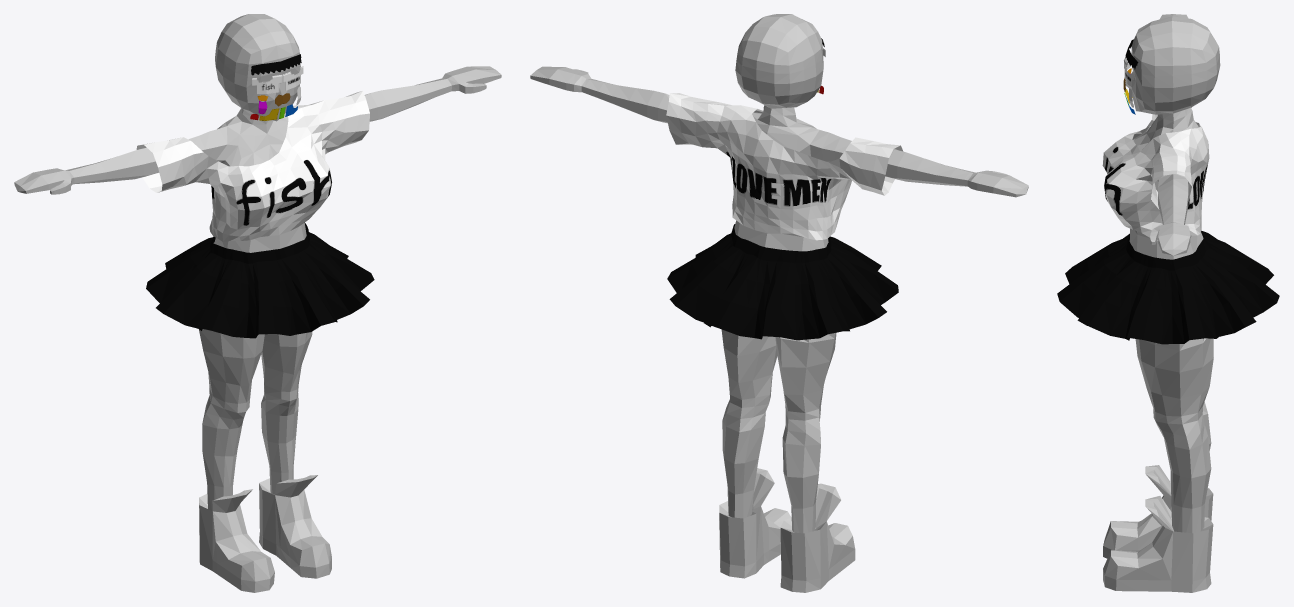
The model's file is slime_girl_test_face.obj.
3 views of the same model, side by side, from view 1: azimuth 30°, elevation 25°; view 2: azimuth 150°, elevation 25°; view 3: azimuth 270°, elevation 25° (orthographic). The views are drawn at different scales.
Parts seen in each view (by area): view 1: Body, skirt_sharp, Shirt, shoes, Head, face; view 2: Body, skirt_sharp, Shirt, shoes, Head; view 3: skirt_sharp, Body, shoes, Shirt, Head, face.
Boxes of the visible parts, box(x1,y1,x2,y2) form: Body: box(14, 66, 501, 510); skirt_sharp: box(146, 222, 374, 338); Shirt: box(136, 91, 369, 241); shoes: box(199, 475, 331, 592); Head: box(215, 14, 300, 121); face: box(250, 54, 303, 120); Body: box(530, 66, 1028, 533); skirt_sharp: box(667, 224, 898, 340); Shirt: box(666, 93, 903, 240); shoes: box(719, 468, 855, 592); Head: box(735, 14, 823, 108); skirt_sharp: box(1057, 230, 1279, 344); Body: box(1129, 14, 1213, 533); shoes: box(1103, 465, 1213, 592); Shirt: box(1102, 107, 1209, 240); Head: box(1125, 16, 1220, 114); face: box(1123, 39, 1138, 114).
Size of the model in its own units: 2.35 by 2.52 by 0.9274.
4 materials, 2 textured.
